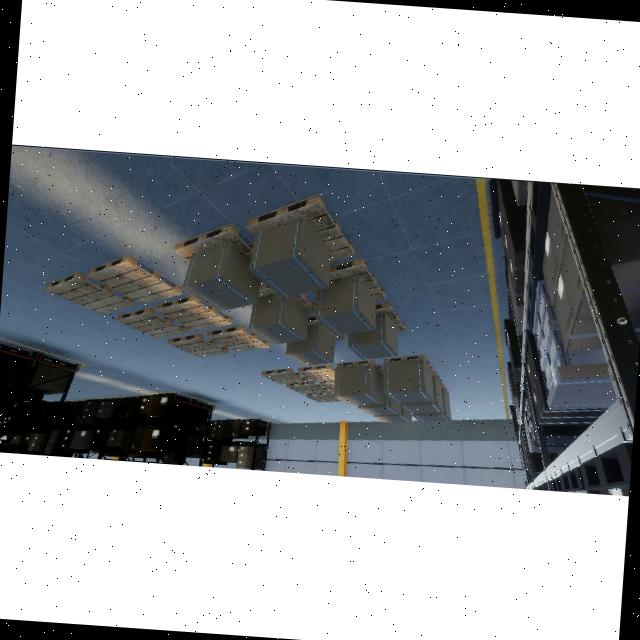wooden_pallet: (245, 195, 354, 261), (88, 256, 183, 306), (45, 272, 131, 314), (172, 224, 250, 263), (328, 256, 387, 304), (156, 294, 231, 331), (116, 306, 187, 341), (204, 324, 268, 353), (168, 332, 228, 358), (383, 354, 433, 373), (373, 304, 406, 332), (336, 359, 384, 377), (261, 369, 307, 385), (297, 364, 335, 382), (285, 381, 327, 394), (305, 391, 341, 403), (316, 381, 334, 392)
